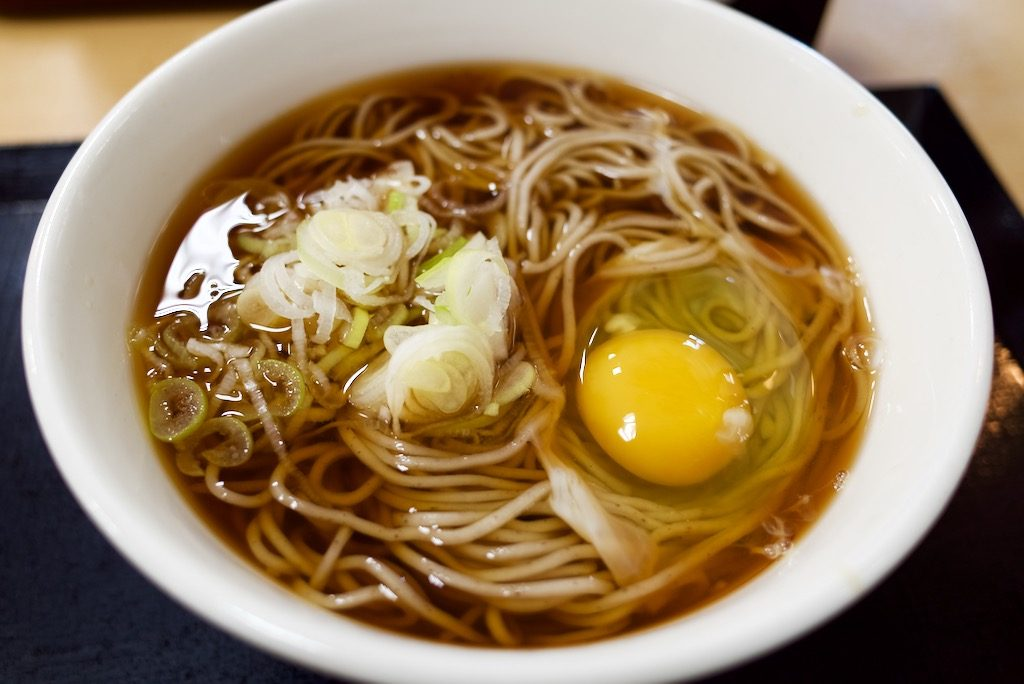Soba: (172, 71, 841, 619)
